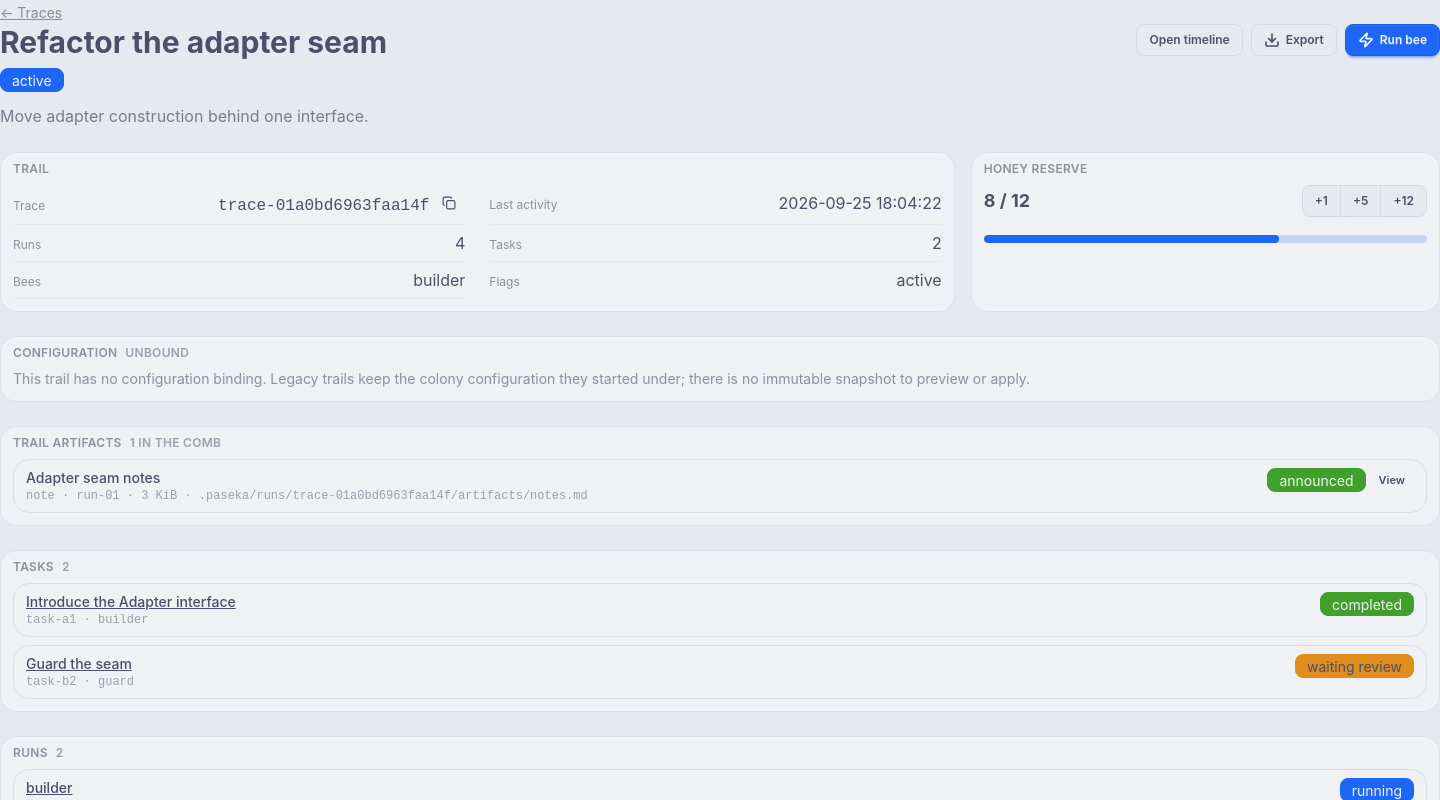
Test case: trace detail › opens a comb file in a modal and reads its body on demand
This screenshot has width=1440, height=800.
Click the button "View": (1392, 480) x1=1370 y1=468 x2=1414 y2=492
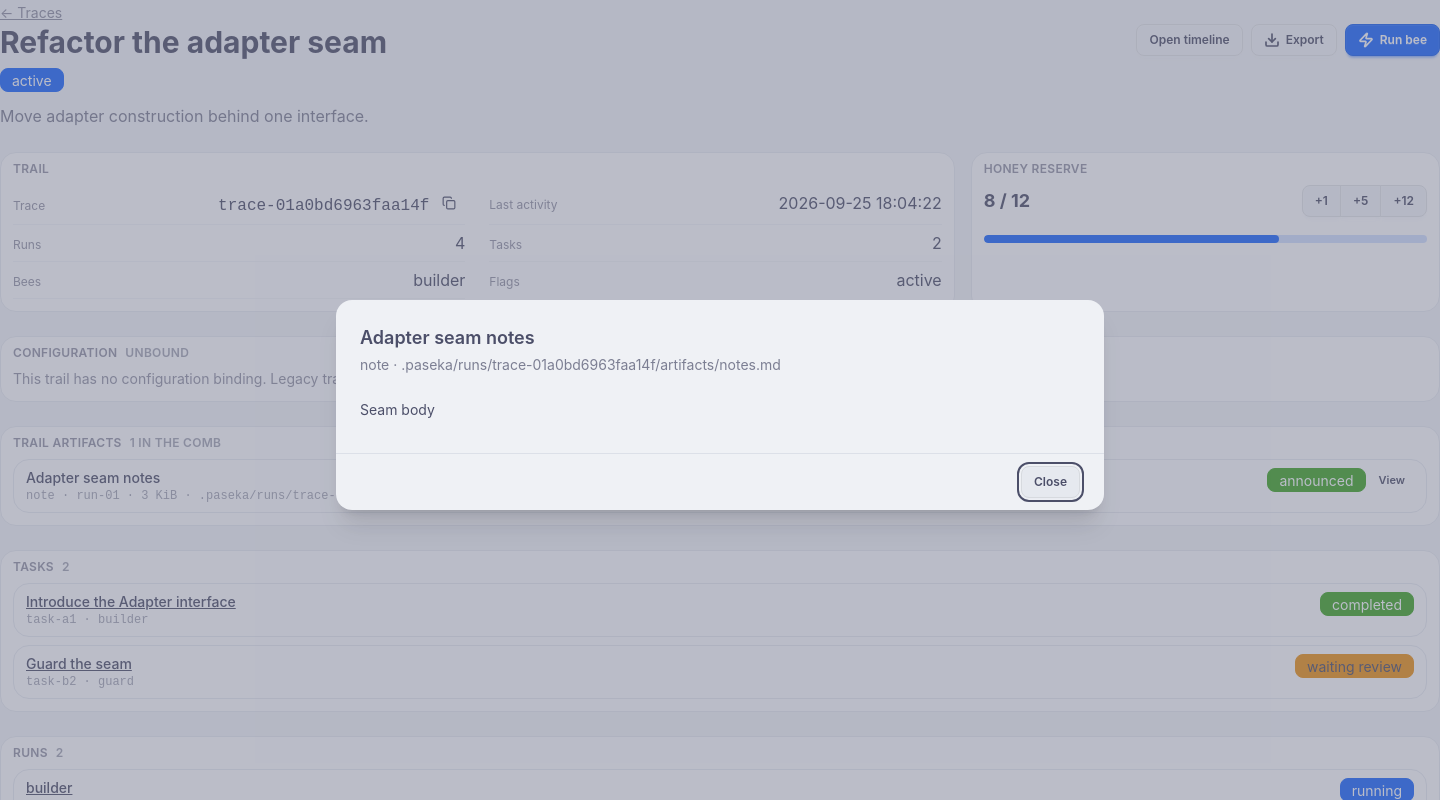
Check: the dialog "Adapter seam notes" is shown, box x1=336 y1=300 x2=1104 y2=510
Check: the text "Seam body" is shown, box x1=360 y1=401 x2=435 y2=418
